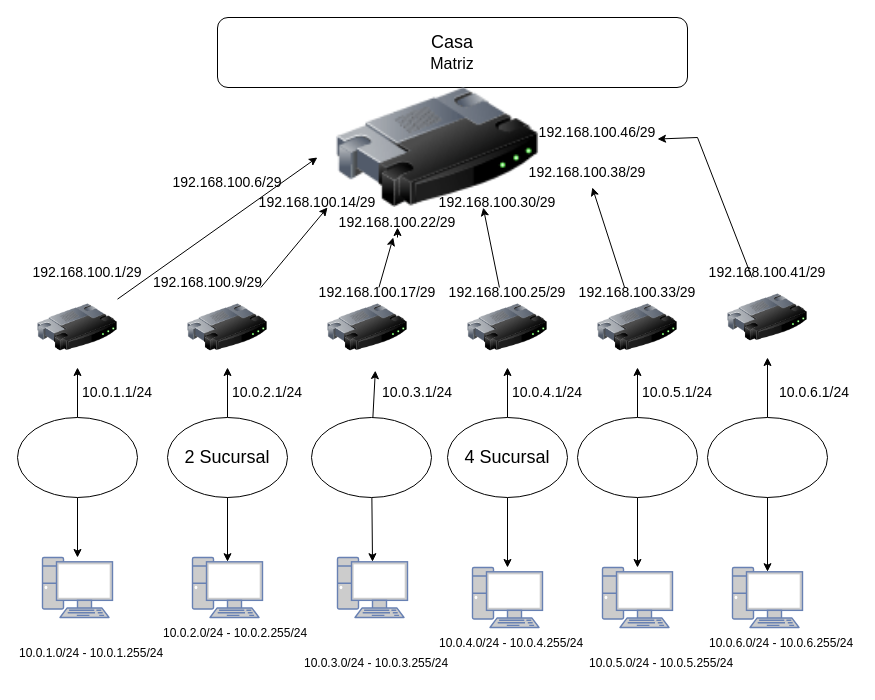
Image size: 875x700. Some labels were removed from this diagram. The shapes that lost their labels are listed below. From the top down, each one's centre as x and y in pixels, then its label:
At pixel 77 457: "1 Sucursal".
At pixel 371 457: "3 Sucursal".
At pixel 637 457: "5 Sucursal".
At pixel 767 457: "6 Sucursal".
